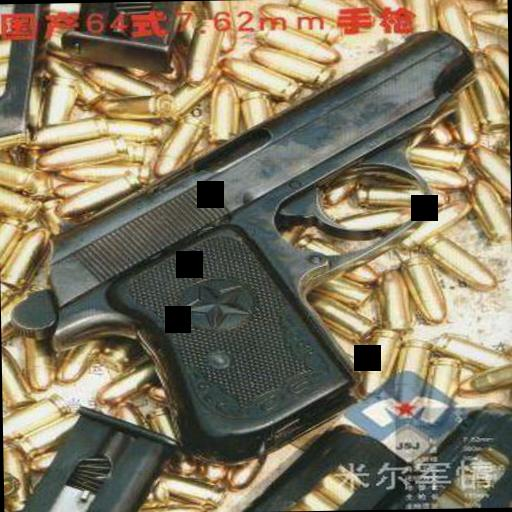Handgun: (2, 26, 480, 460)
